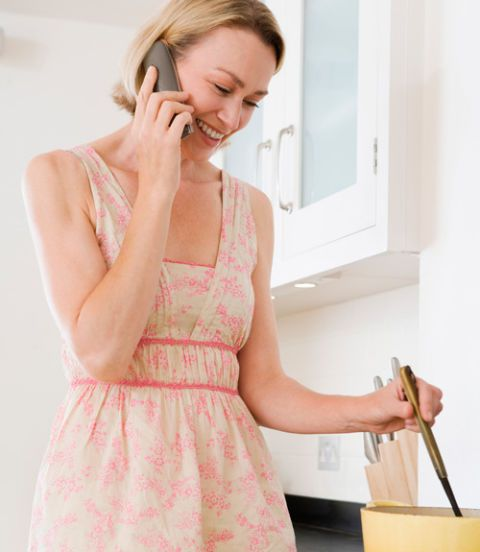phone: (135, 43, 198, 151)
talk: (126, 38, 271, 201)
